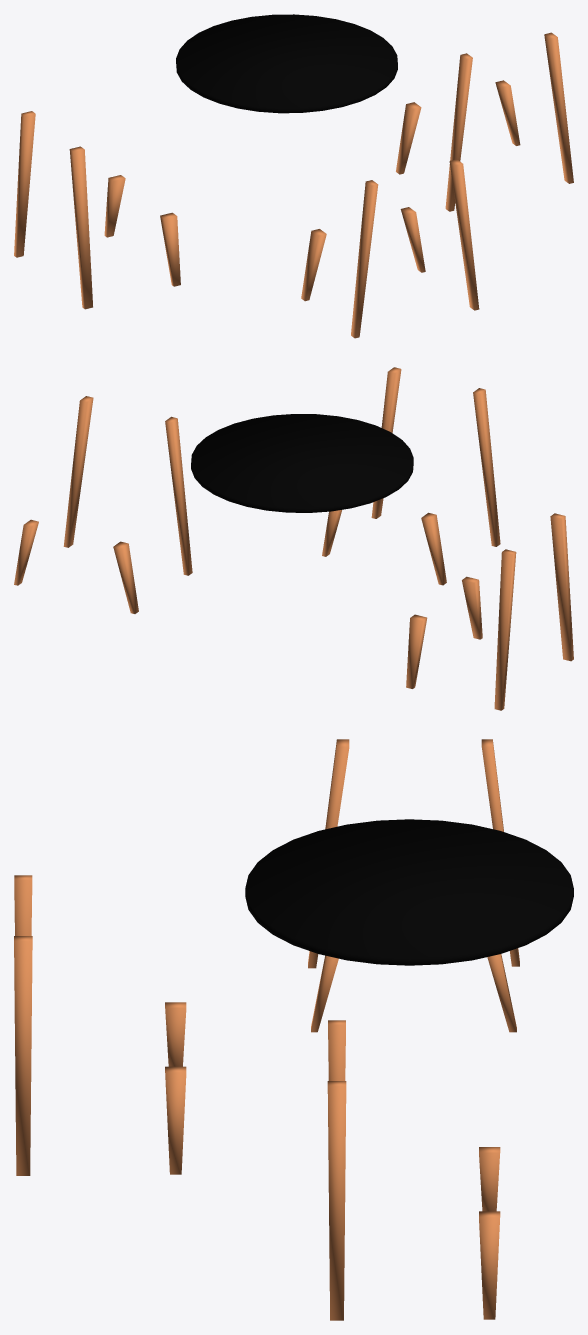
The model's file is table_chair.obj.
3 views of the same model, one above another, from view 1: azimuth 30°, elevation 25°; view 2: azimuth 150°, elevation 25°; view 3: azimuth 270°, elevation 25° (orthographic). The views are drawn at different scales.
Bounding box in the file's own units: 2.18 × 0.6918 × 1.44.
